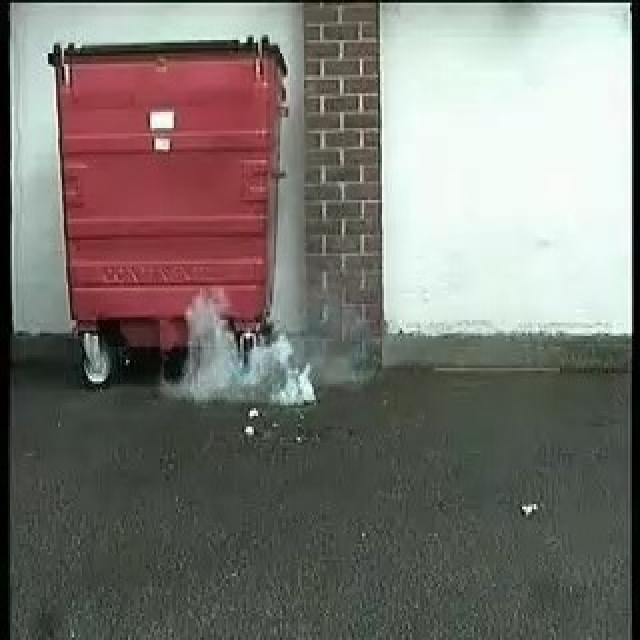smoke: (186, 292, 316, 404)
